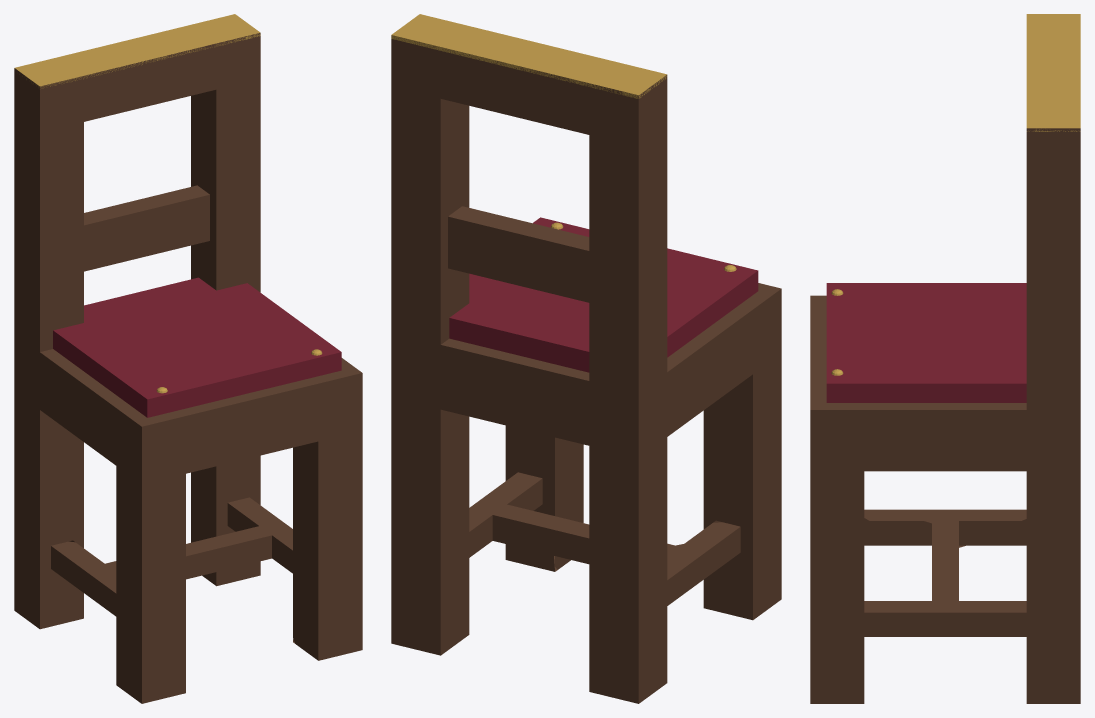
The model's file is chair.glb.
3 views of the same model, side by side, from view 1: azimuth 30°, elevation 25°; view 2: azimuth 150°, elevation 25°; view 3: azimuth 270°, elevation 25° (orthographic). The views are drawn at different scales.
Parts seen in each view (by area): view 1: chair(Clone); view 2: chair(Clone); view 3: chair(Clone).
Boxes of the visible parts, x1,y1,x2,y2 form: chair(Clone): (14,14,362,703); chair(Clone): (391,14,781,703); chair(Clone): (810,14,1080,703).
Bounding box in the file's own units: 0.2 × 0.47 × 0.2.
